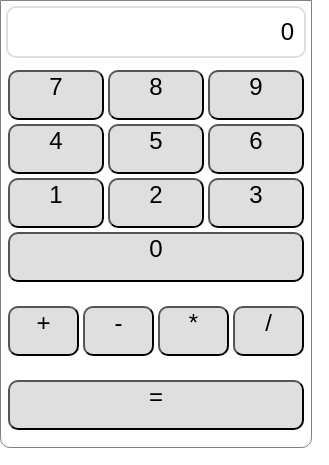
Test: displays the digit you click
The image size is (329, 465).
What coordinates should you click on to do the following:
click the button with class "digit" showing "7"
I would click on:
 (56, 95)
Its box is [8,70,104,120].
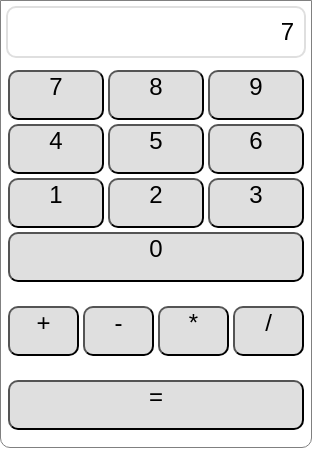
expect the text with class "Display" reads "7": met, box [281,18,294,45]
